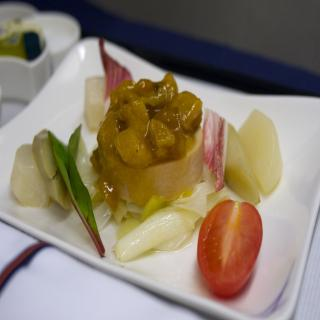tomato: (193, 198, 264, 299)
